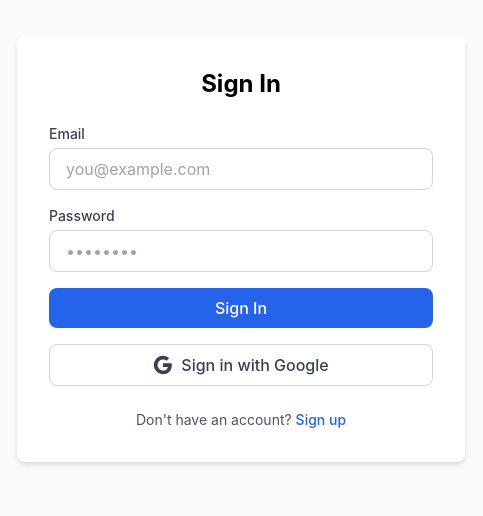
Test case: Login › shows error message on failed login
Type "test@test.com" into the field labelled "Email". click: [241, 169]
box: x1=49 y1=148 x2=433 y2=190
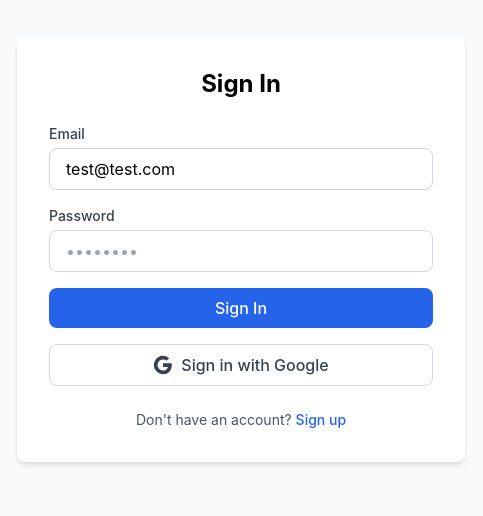
Type "wrongpassword" into the password field labelled "Password". click: [241, 251]
box: x1=49 y1=230 x2=433 y2=272
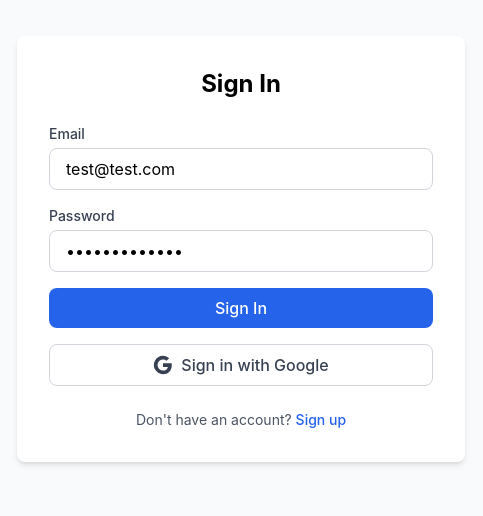
Click the button "Sign In". click: [241, 308]
box: x1=49 y1=288 x2=433 y2=328
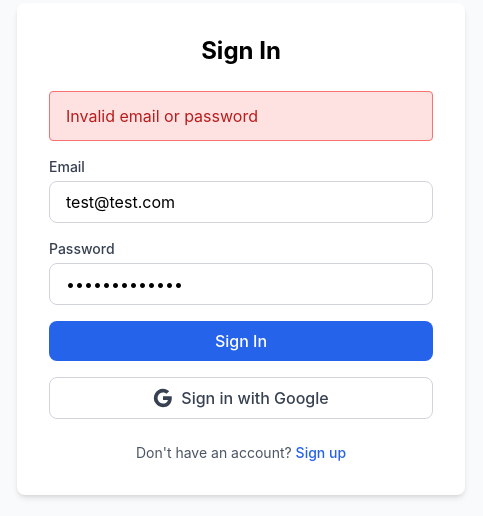
Now the text "Invalid email or password" is shown, box x1=49 y1=91 x2=433 y2=141
